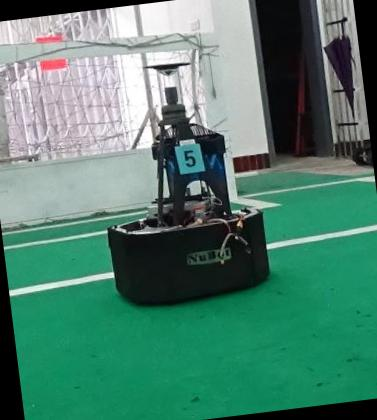goal: (196, 34, 236, 200)
robot: (107, 85, 269, 304), (148, 63, 189, 77)
